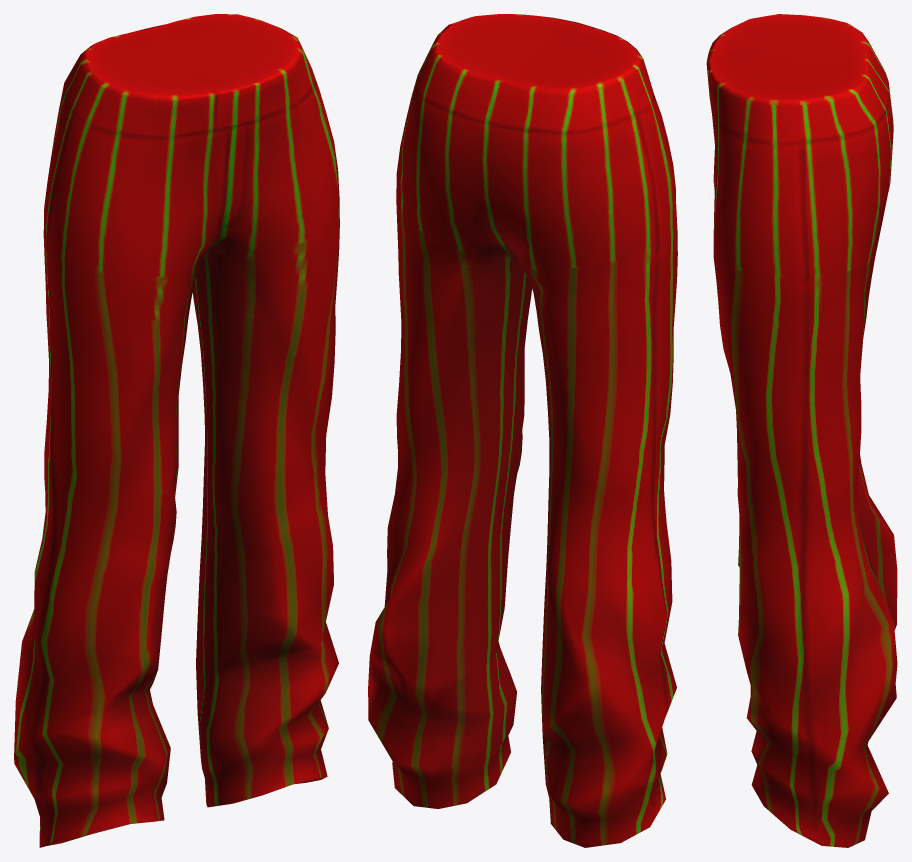
The model's file is Bottom_StripedPants.obj.
The picture shows the model from 3 angles, left to right: view 1: azimuth 30°, elevation 25°; view 2: azimuth 150°, elevation 25°; view 3: azimuth 270°, elevation 25°; orthographic projection. The views are drawn at different scales.
Parts seen in each view (by area): view 1: Bottom_StripedPants_0; view 2: Bottom_StripedPants_0; view 3: Bottom_StripedPants_0.
Part boxes in pixels (x1,y1,x2,y2): Bottom_StripedPants_0: (14, 14, 339, 847); Bottom_StripedPants_0: (368, 14, 677, 847); Bottom_StripedPants_0: (706, 14, 897, 847).
Size of the model in its own units: 0.4102 by 1.03 by 0.2415.
1 material, 1 textured.
